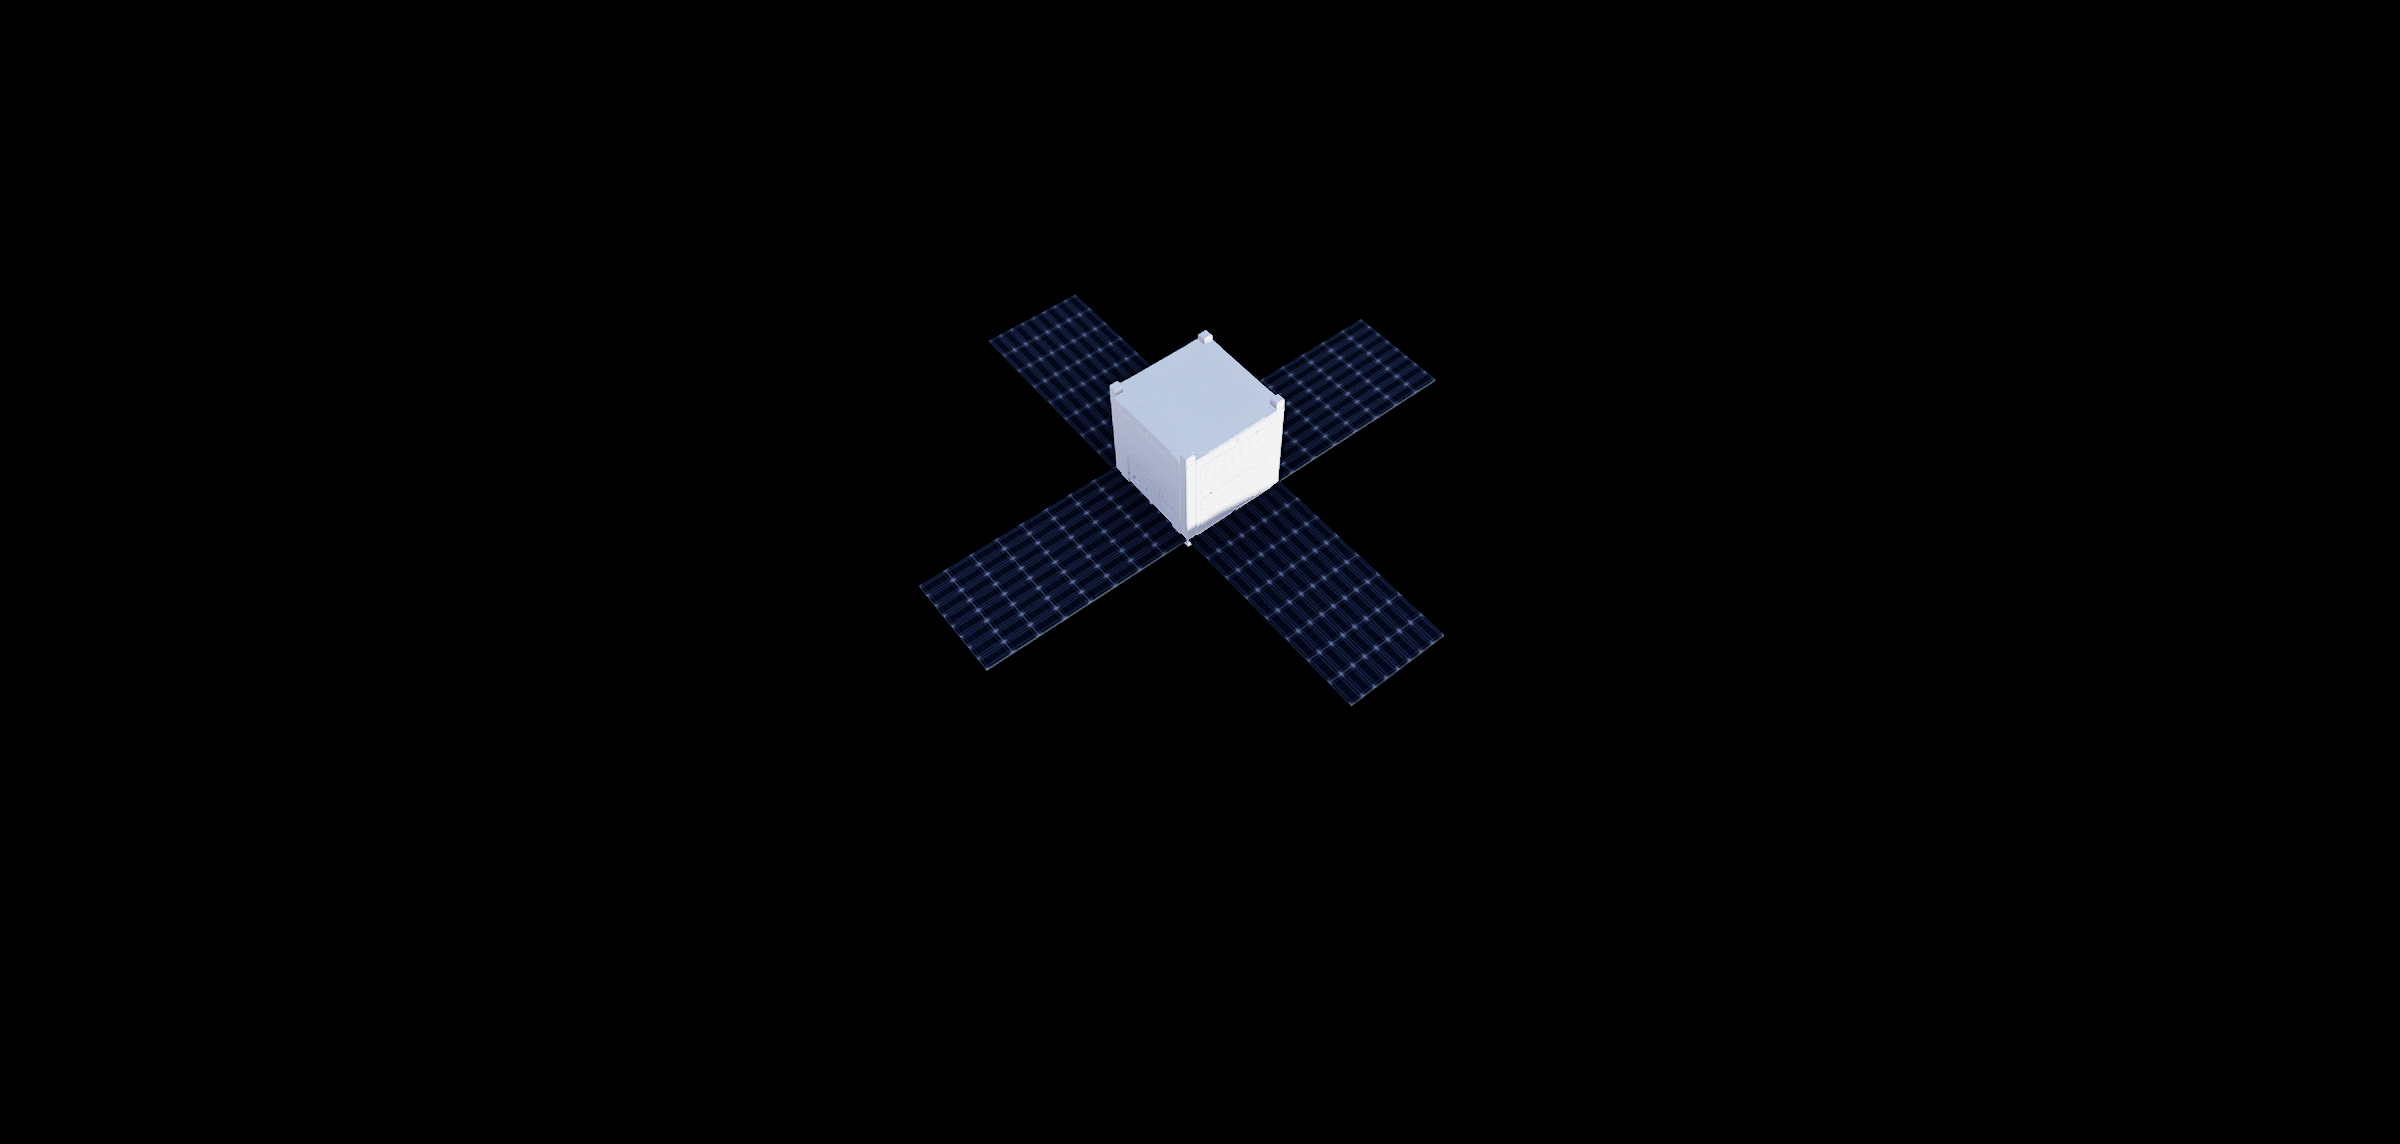satellite: (912, 270, 1486, 732)
